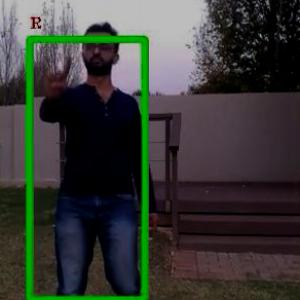takeoff-hand: (36, 46, 76, 104)
